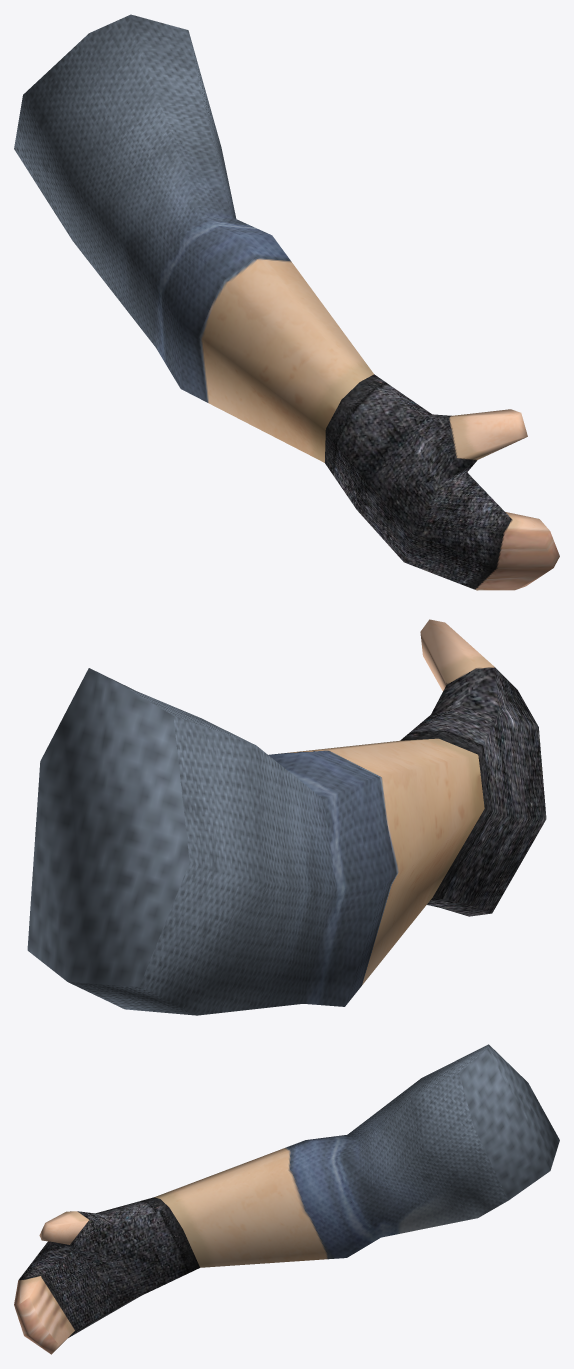
Rendered from player_arm.fbx.
3 views of the same model, one above another, from view 1: azimuth 30°, elevation 25°; view 2: azimuth 150°, elevation 25°; view 3: azimuth 270°, elevation 25° (orthographic). The views are drawn at different scales.
Visible parts, largest first — view 1: player_arm; view 2: player_arm; view 3: player_arm.
Part boxes in pixels (<box>): player_arm: <box>14,14,559,590</box>; player_arm: <box>27,619,546,1015</box>; player_arm: <box>14,1044,559,1354</box>.
Bounding box in the file's own units: 16.76 × 31.02 × 56.67.
